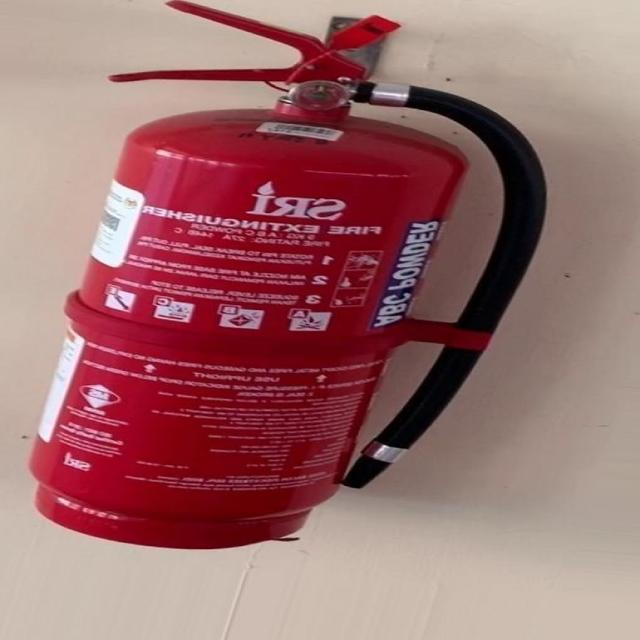fire_extinguisher: (0, 0, 559, 552)
